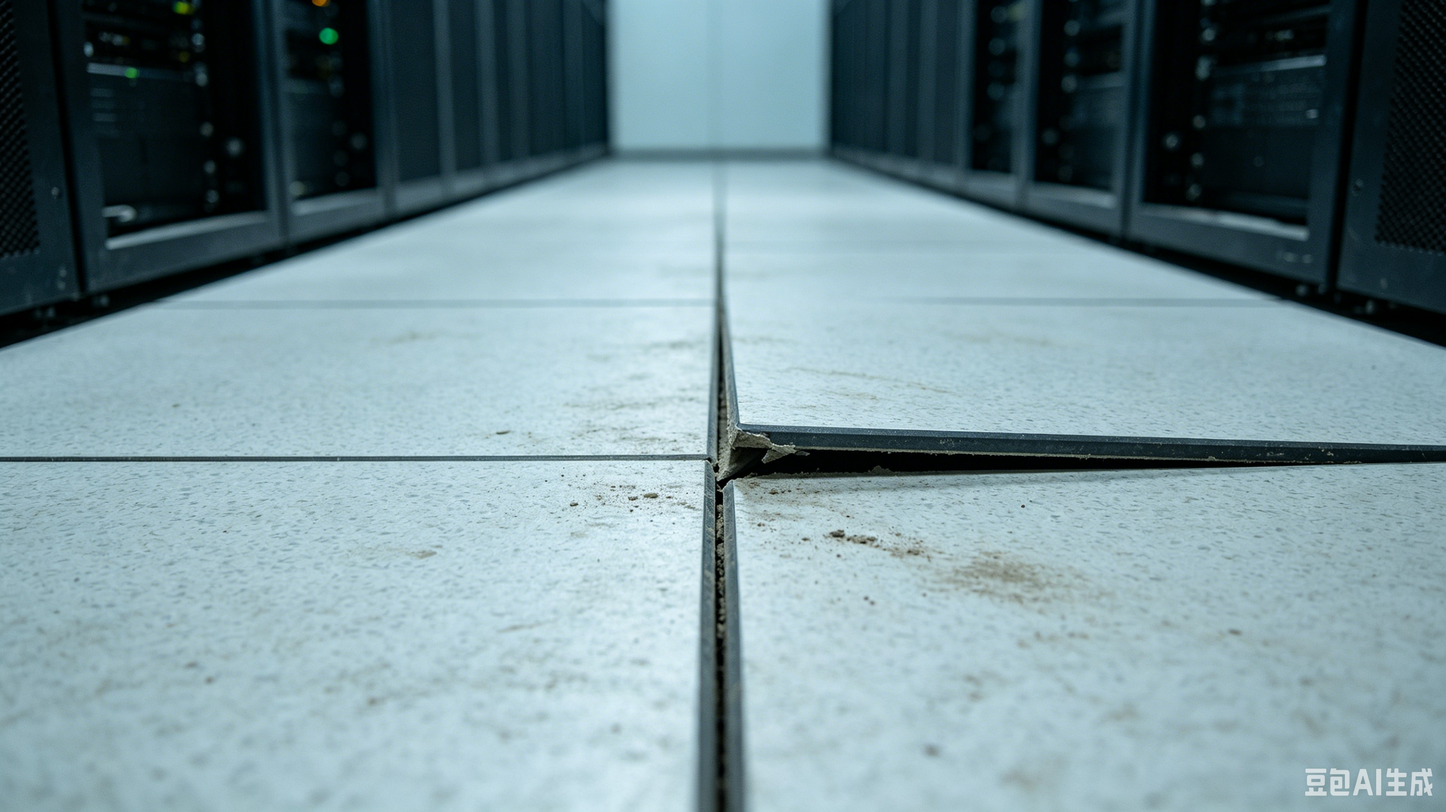floor_defect: (671, 318, 1272, 558)
